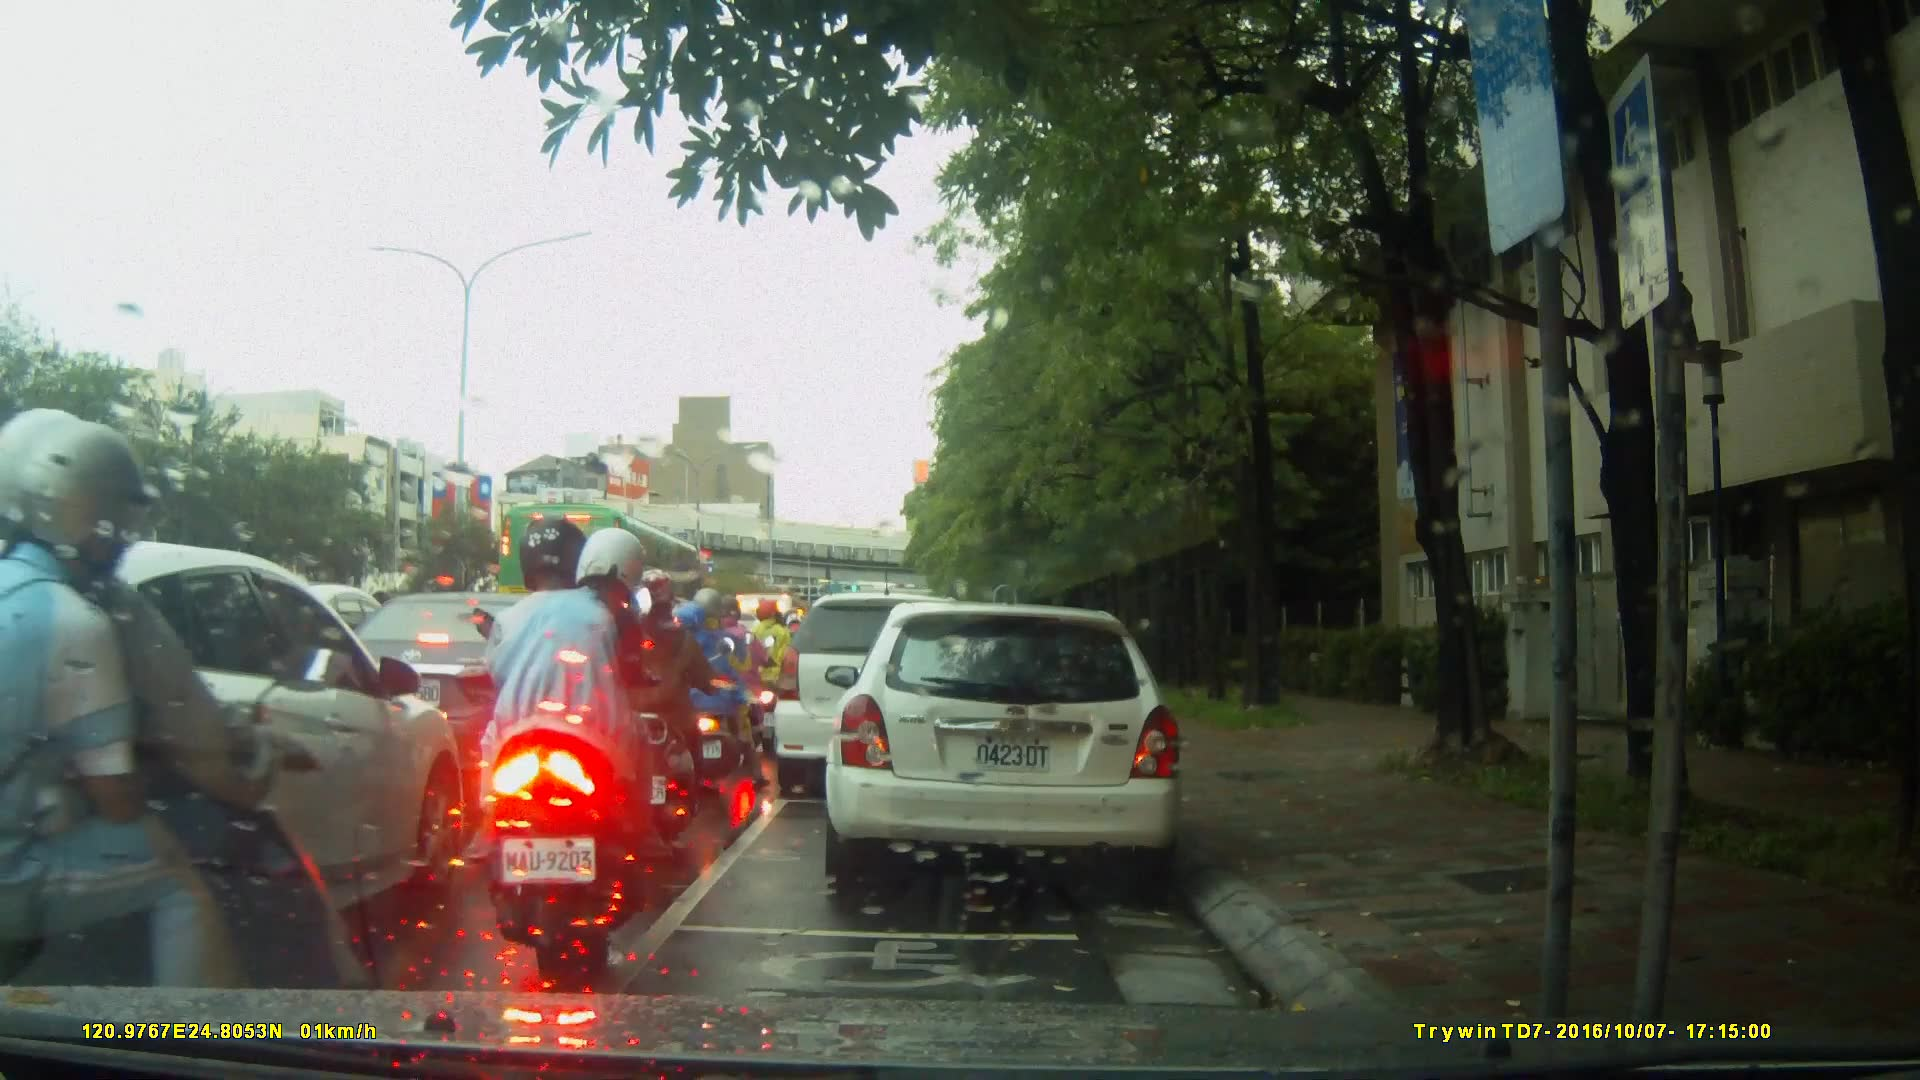rider: (1, 407, 386, 1080), (481, 516, 679, 971), (617, 572, 736, 840), (667, 588, 751, 790), (700, 598, 772, 764), (744, 598, 798, 742)
vehicle: (3, 536, 464, 988), (831, 592, 1196, 897), (312, 589, 629, 776), (771, 590, 999, 803), (496, 500, 710, 636)
